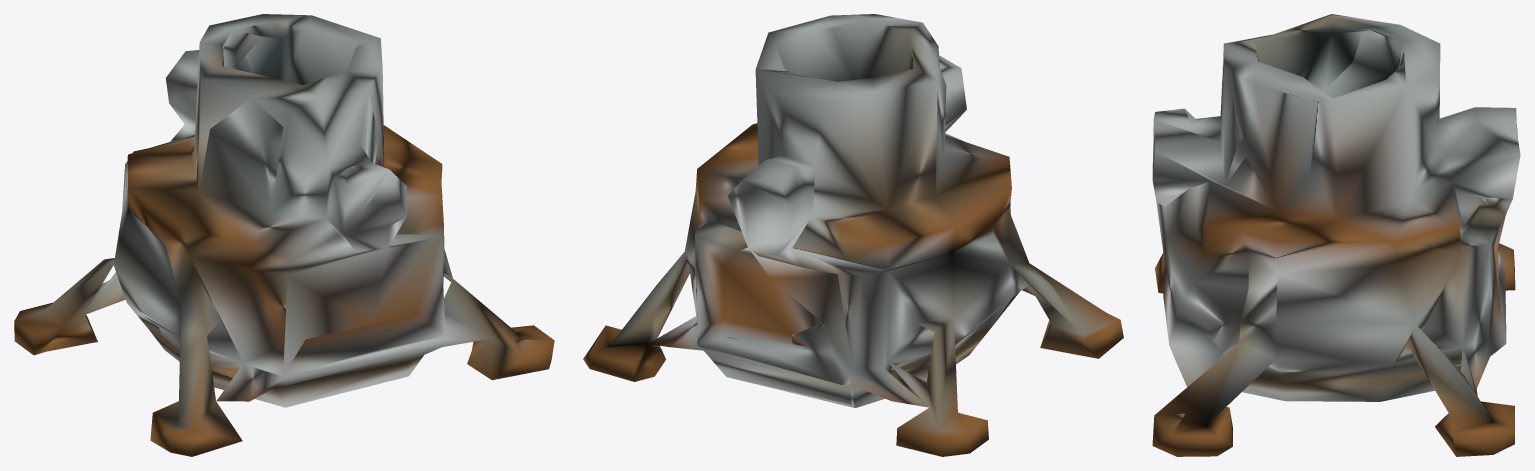
Rendered from gen3d-moon-lander-lod1.glb.
3 renders of one model, left to right at view 1: azimuth 30°, elevation 25°; view 2: azimuth 150°, elevation 25°; view 3: azimuth 270°, elevation 25°, orthographic. The views are drawn at different scales.
Parts seen in each view (by area): view 1: part_0; view 2: part_0; view 3: part_0.
Part boxes in pixels (x1,y1,x2,y2): part_0: (14, 14, 554, 456); part_0: (583, 14, 1123, 456); part_0: (1152, 14, 1520, 456).
Size of the model in its own units: 1.34 by 0.9993 by 1.06.
